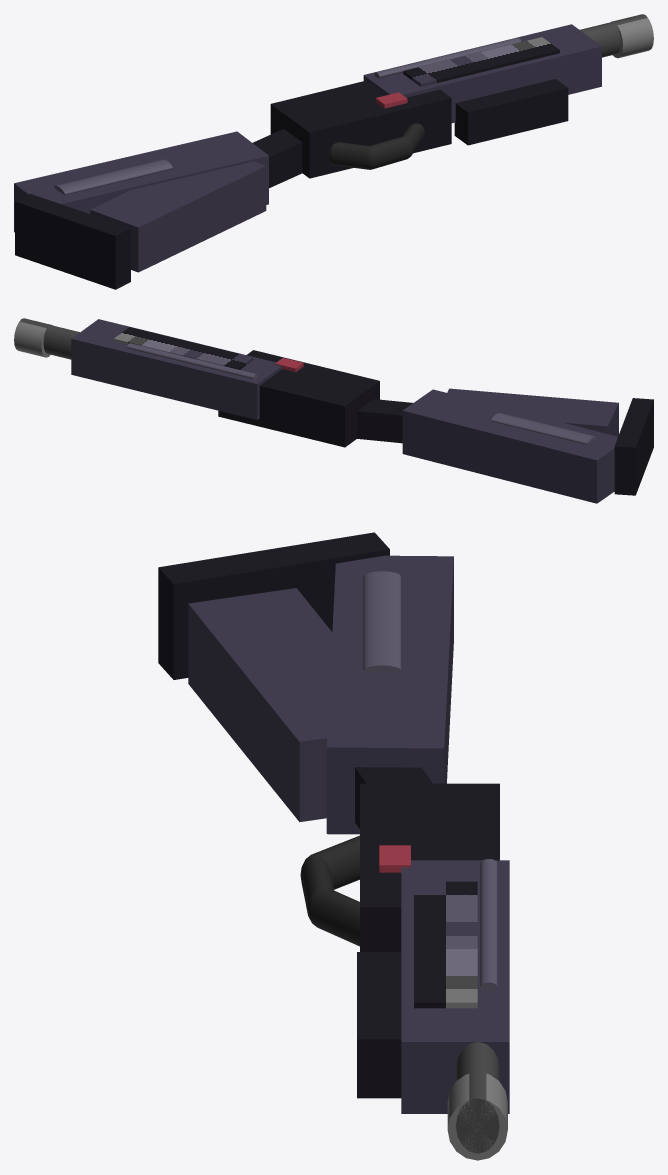
File: CMU3DWorldRMCWeaponRifleABR40TacticalCloud.glb
3 views of the same model, one above another, from view 1: azimuth 30°, elevation 25°; view 2: azimuth 150°, elevation 25°; view 3: azimuth 270°, elevation 25° (orthographic). The views are drawn at different scales.
Parts seen in each view (by area): view 1: stock lower wedge, dark receiver block, butt sloped edge, purple stock upper, purple receiver casing, flat source magazine underside, source purple receiver stripe, narrow stock neck, purple cheek highlight, muzzle exterior collar, long silver barrel edge, receiver purple ridge (+2 smaller); view 2: purple stock upper, purple receiver casing, dark receiver block, stock lower wedge, butt sloped edge, source purple receiver stripe, narrow stock neck, purple cheek highlight, long silver barrel edge, muzzle exterior collar, receiver purple ridge; view 3: purple stock upper, stock lower wedge, purple receiver casing, dark receiver block, butt sloped edge, source purple receiver stripe, flat source magazine underside, purple cheek highlight, long silver barrel edge, muzzle exterior collar, receiver purple ridge, open rear grip and guard member 4 (+3 smaller).
Boxes of the visible parts, x1,y1,x2,y2 form: stock lower wedge: (90,161,266,272); dark receiver block: (270,80,451,178); butt sloped edge: (15,193,130,289); purple stock upper: (14,131,268,232); purple receiver casing: (363,24,601,123); flat source magazine underside: (454,79,568,145); source purple receiver stripe: (403,37,559,86); narrow stock neck: (253,129,302,188); purple cheek highlight: (54,159,172,195); muzzle exterior collar: (611,14,653,58); long silver barrel edge: (580,14,647,57); receiver purple ridge: (374,37,521,78); purple stock upper: (402,389,617,503); purple receiver casing: (71,319,281,419); dark receiver block: (218,350,379,447); stock lower wedge: (447,388,618,436); butt sloped edge: (614,398,653,495); source purple receiver stripe: (113,327,253,369); narrow stock neck: (357,399,412,443); purple cheek highlight: (491,413,596,444); long silver barrel edge: (19,318,79,359); muzzle exterior collar: (14,318,52,357); receiver purple ridge: (126,343,257,379); purple stock upper: (326,555,453,834); stock lower wedge: (188,588,332,822); purple receiver casing: (401,860,509,1113); dark receiver block: (360,783,499,951); butt sloped edge: (158,532,389,679); source purple receiver stripe: (414,881,477,1008); flat source magazine underside: (357,952,401,1098); purple cheek highlight: (363,571,401,672); long silver barrel edge: (455,1042,499,1153); muzzle exterior collar: (447,1073,507,1160); receiver purple ridge: (480,859,497,990); open rear grip and guard member 4: (311,887,359,946).
Size of the model in its own units: 1.34 by 0.122 by 0.345.
Materials: 8 (1 with a texture image).
